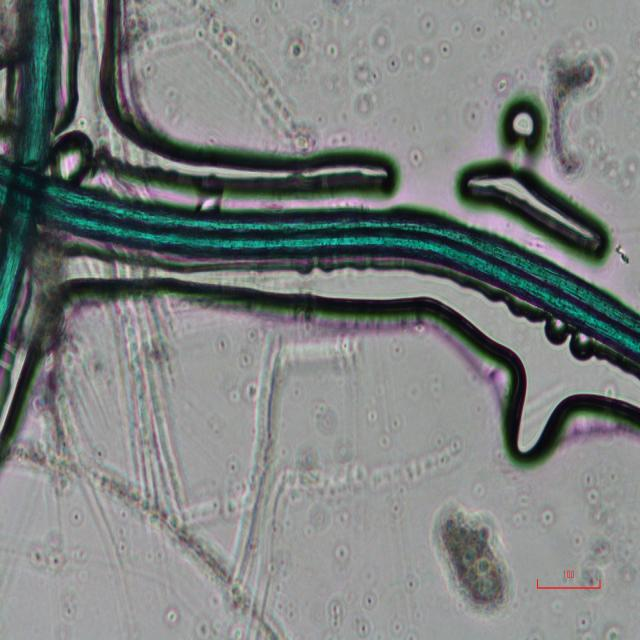Air bubble: (20, 264, 640, 487), (53, 0, 402, 201), (464, 148, 612, 268), (500, 95, 547, 151)
Background material: (35, 338, 287, 637), (129, 0, 319, 154), (353, 8, 485, 118), (281, 409, 379, 522), (433, 492, 517, 620), (574, 456, 638, 600), (546, 36, 604, 176), (325, 538, 377, 636), (20, 520, 90, 576), (206, 570, 264, 637), (497, 483, 563, 531), (595, 137, 640, 205), (292, 26, 341, 73), (369, 390, 401, 452), (481, 65, 532, 101), (228, 382, 268, 412), (152, 594, 188, 626), (317, 120, 355, 146), (389, 338, 417, 368), (395, 569, 423, 596), (421, 373, 447, 402), (410, 147, 430, 180), (600, 617, 626, 638), (611, 235, 629, 262), (571, 612, 597, 629), (389, 614, 407, 636)
Microfibre: (0, 149, 640, 360), (0, 2, 56, 346)
